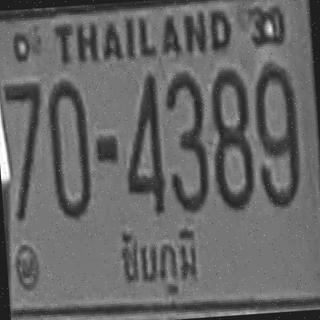N00: (46, 77, 92, 218)
N03: (162, 68, 209, 212)
N04: (119, 70, 166, 214)
N07: (3, 80, 48, 221)
N08: (206, 65, 254, 209)
N09: (250, 60, 300, 206)
P09: (114, 220, 205, 308)
